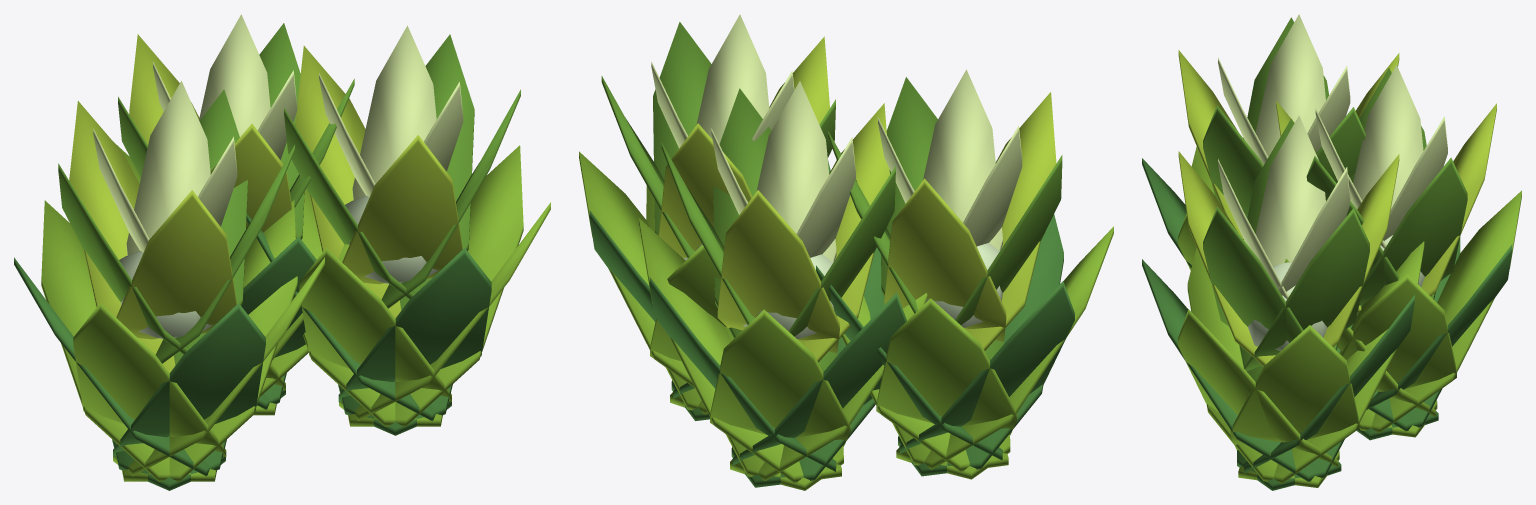
File: stage_3_harvest.glb
3 renders of one model, left to right at view 1: azimuth 30°, elevation 25°; view 2: azimuth 150°, elevation 25°; view 3: azimuth 270°, elevation 25°, orthographic. The views are drawn at different scales.
Visible parts, largest first — view 1: 内叶.015, 内叶.020, 外叶.025, 外叶.033, 外叶.026, 外叶.032, 外叶.028, 心叶.003, 心叶, 外叶.023, 内叶.013, 内叶.018 (+29 smaller); view 2: 内叶.023, 内叶.013, 外叶.023, 外叶.037, 心叶.002, 心叶.008, 外叶.035, 外叶.024, 外叶.038, 内叶.015, 外叶.028, 内叶.018 (+31 smaller); view 3: 外叶.028, 内叶.017, 外叶.037, 心叶.004, 内叶.022, 外叶.035, 内叶.021, 心叶.007, 心叶.001, 外叶.034, 外叶.030, 外叶.032 (+28 smaller).
Part boxes in pixels (x1,y1,x2,y2): 内叶.015: [116, 190, 236, 339]; 内叶.020: [342, 135, 462, 284]; 外叶.025: [73, 303, 226, 456]; 外叶.033: [338, 248, 491, 401]; 外叶.026: [113, 303, 265, 457]; 外叶.032: [299, 248, 451, 401]; 外叶.028: [348, 145, 523, 426]; 心叶.003: [352, 25, 436, 200]; 心叶: [126, 81, 210, 255]; 外叶.023: [41, 200, 216, 481]; 内叶.013: [69, 101, 175, 373]; 内叶.018: [295, 46, 401, 318]; 内叶.023: [717, 190, 839, 352]; 内叶.013: [884, 178, 1006, 341]; 外叶.023: [876, 298, 1017, 435]; 外叶.037: [710, 309, 850, 446]; 心叶.002: [923, 69, 1002, 250]; 心叶.008: [756, 81, 836, 261]; 外叶.035: [639, 218, 841, 482]; 外叶.024: [899, 281, 1074, 453]; 外叶.038: [733, 292, 906, 465]; 内叶.015: [964, 92, 1056, 350]; 外叶.028: [579, 151, 695, 388]; 内叶.018: [658, 123, 752, 258]; 外叶.028: [1230, 325, 1359, 449]; 内叶.017: [1244, 208, 1369, 371]; 外叶.037: [1371, 190, 1521, 432]; 心叶.004: [1255, 115, 1325, 265]; 内叶.022: [1359, 157, 1467, 305]; 外叶.035: [1341, 274, 1456, 390]; 内叶.021: [1203, 206, 1303, 342]; 心叶.007: [1353, 65, 1423, 209]; 心叶.001: [1255, 14, 1325, 156]; 外叶.034: [1178, 309, 1338, 467]; 外叶.030: [1238, 241, 1424, 483]; 外叶.032: [1187, 248, 1339, 487].
Bounding box in the file's own units: 1.18 × 0.8032 × 0.8565.
Materials: 2 (2 with a texture image).
